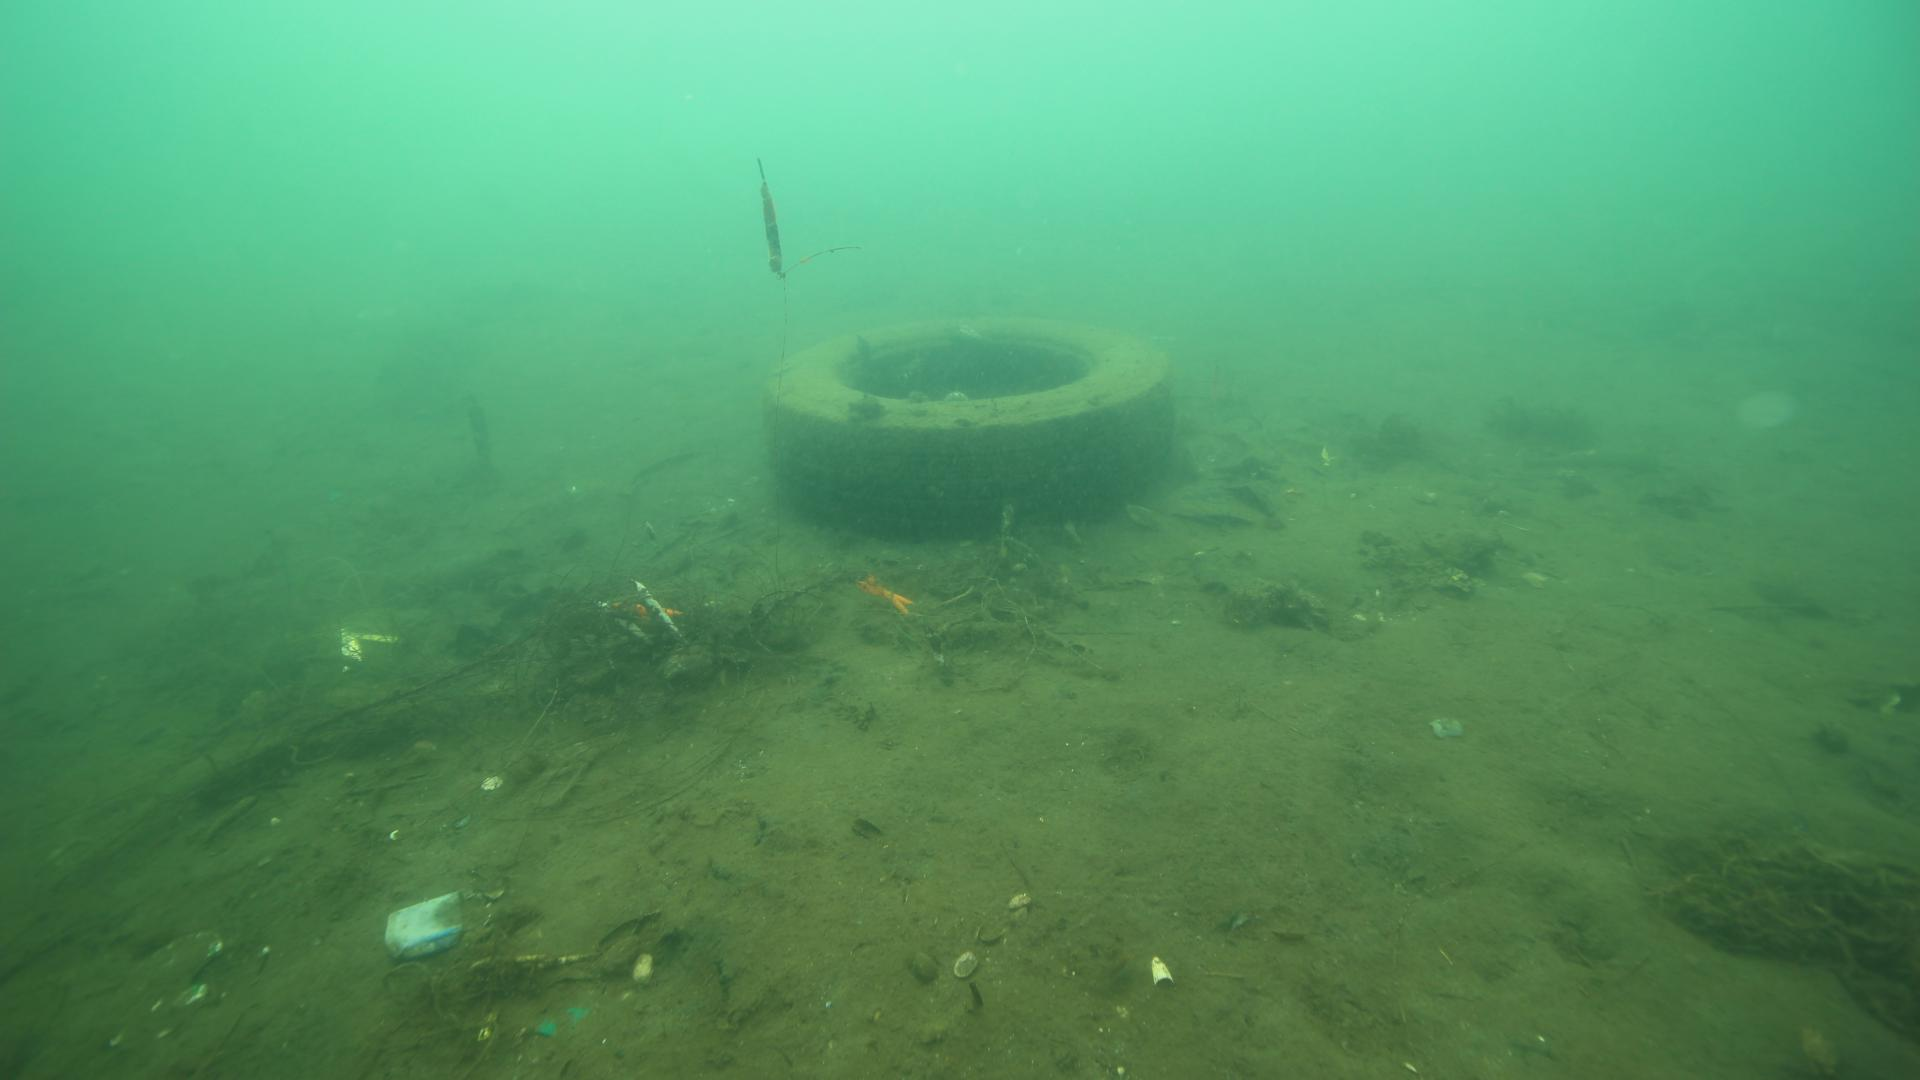tire: (760, 307, 1185, 545)
